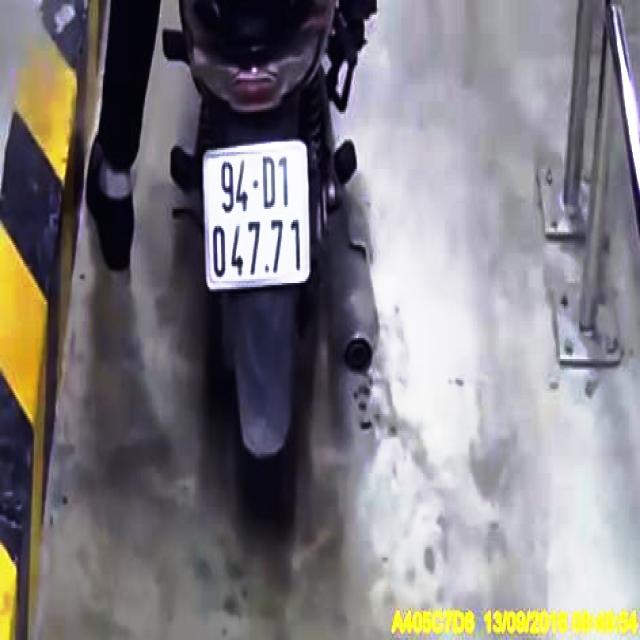license_plate: (206, 138, 310, 288)
